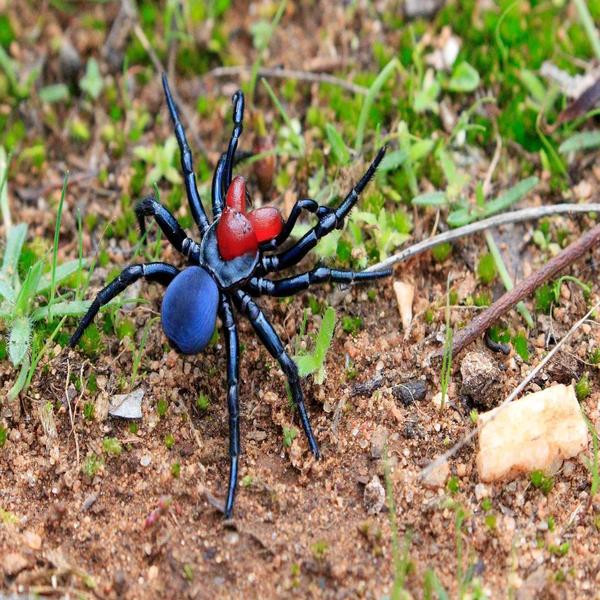Red Headed Mouse Spider: (85, 75, 386, 502)
